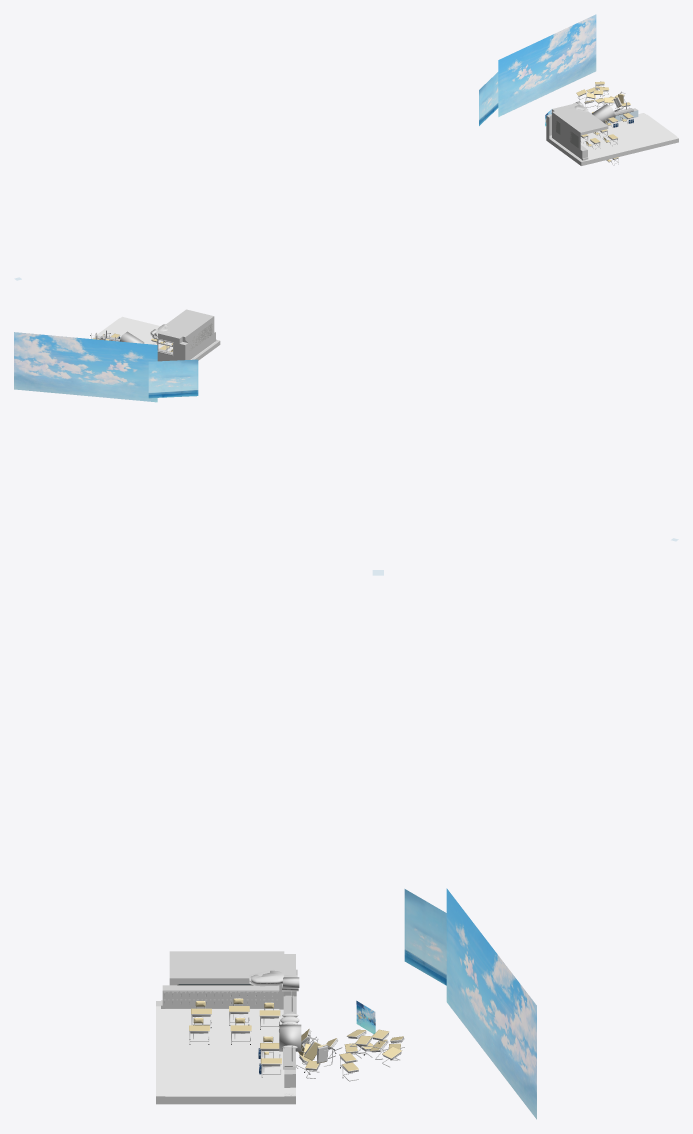
File: blue_frame_classroom.glb
3 views of the same model, one above another, from view 1: azimuth 30°, elevation 25°; view 2: azimuth 150°, elevation 25°; view 3: azimuth 270°, elevation 25° (orthographic). The views are drawn at different scales.
Visible parts, largest first — view 1: 云, 总教室, 教室水面阴影, 教室水面, 云2; view 2: 云, 总教室, 云2, 教室水面阴影, 教室水面; view 3: 云, 教室水面阴影, 教室水面, 总教室, 云2, 柜子, 地板.
Part boxes in pixels (x1=…): 云: x1=498, y1=14, x2=596, y2=116; 总教室: x1=546, y1=104, x2=678, y2=165; 教室水面阴影: x1=552, y1=114, x2=676, y2=159; 教室水面: x1=581, y1=115, x2=675, y2=157; 云2: x1=479, y1=72, x2=498, y2=125; 云: x1=14, y1=332, x2=157, y2=402; 总教室: x1=157, y1=309, x2=220, y2=361; 云2: x1=148, y1=359, x2=198, y2=398; 教室水面阴影: x1=92, y1=318, x2=215, y2=359; 教室水面: x1=92, y1=318, x2=172, y2=350; 云: x1=446, y1=888, x2=536, y2=1119; 教室水面阴影: x1=165, y1=1009, x2=284, y2=1096; 教室水面: x1=165, y1=1009, x2=283, y2=1095; 总教室: x1=156, y1=951, x2=295, y2=1104; 云2: x1=404, y1=889, x2=446, y2=985; 柜子: x1=162, y1=985, x2=279, y2=1005; 地板: x1=156, y1=1006, x2=295, y2=1096.
Bounding box in the file's own units: 204 × 26.76 × 54.32.
Materials: 28 (3 with a texture image).
